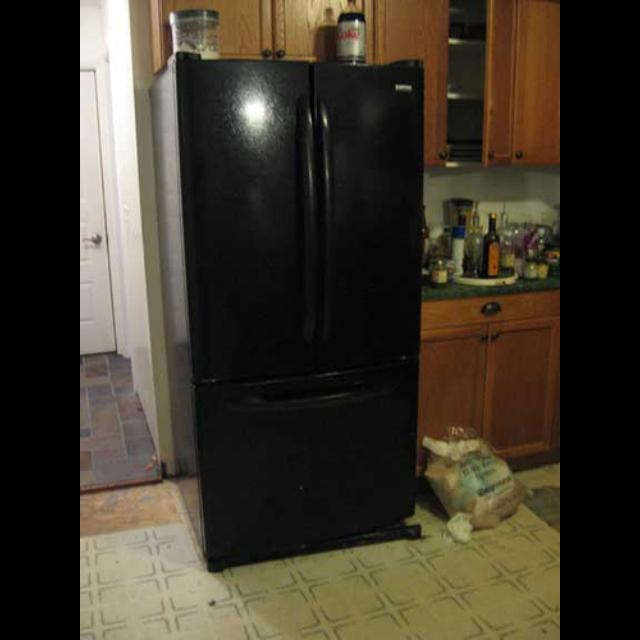Refrigerator: (146, 46, 425, 571)
